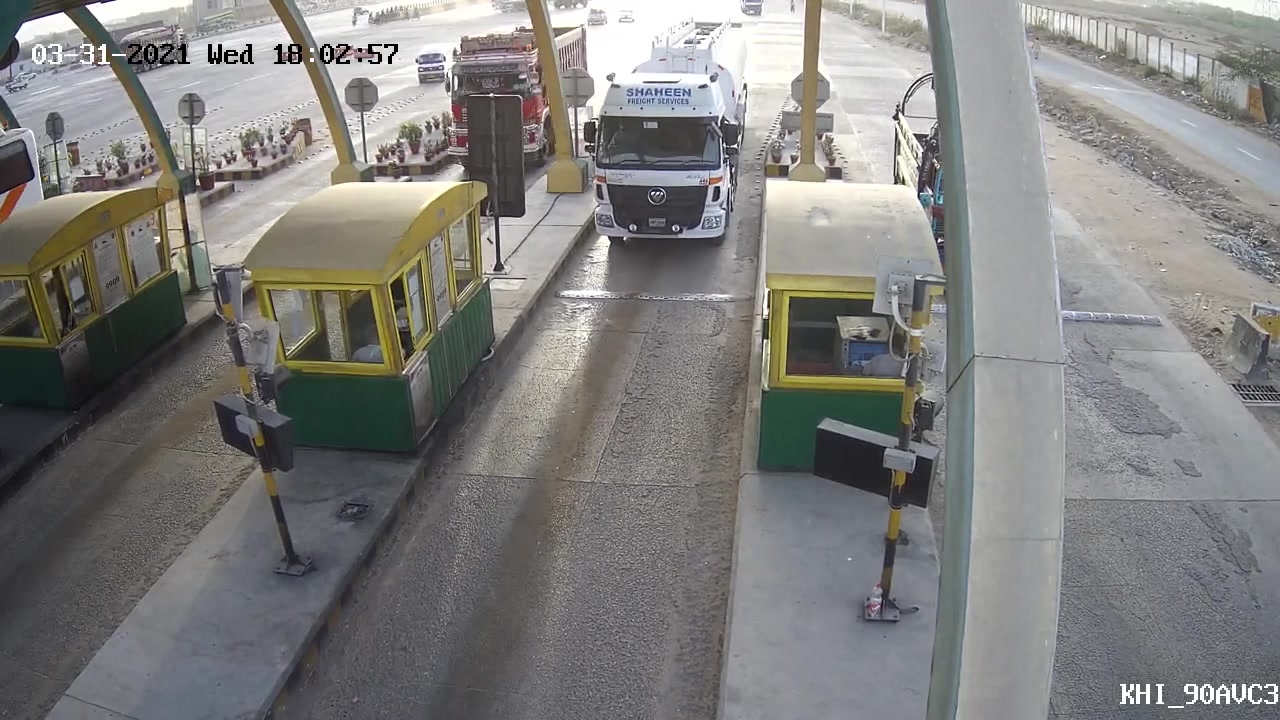F6: (577, 10, 754, 252)
